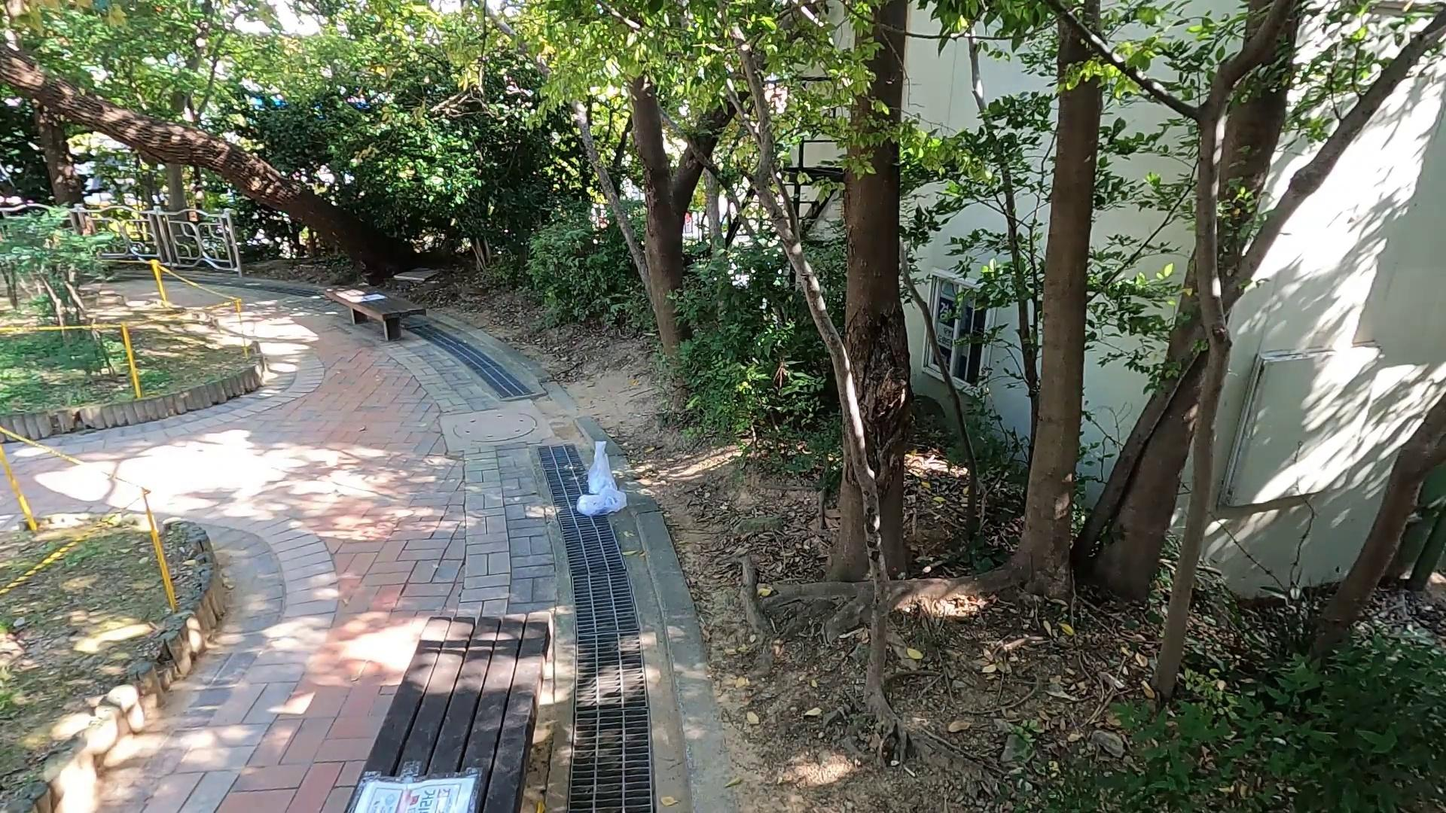trash: (584, 440, 620, 497), (574, 487, 628, 518)
